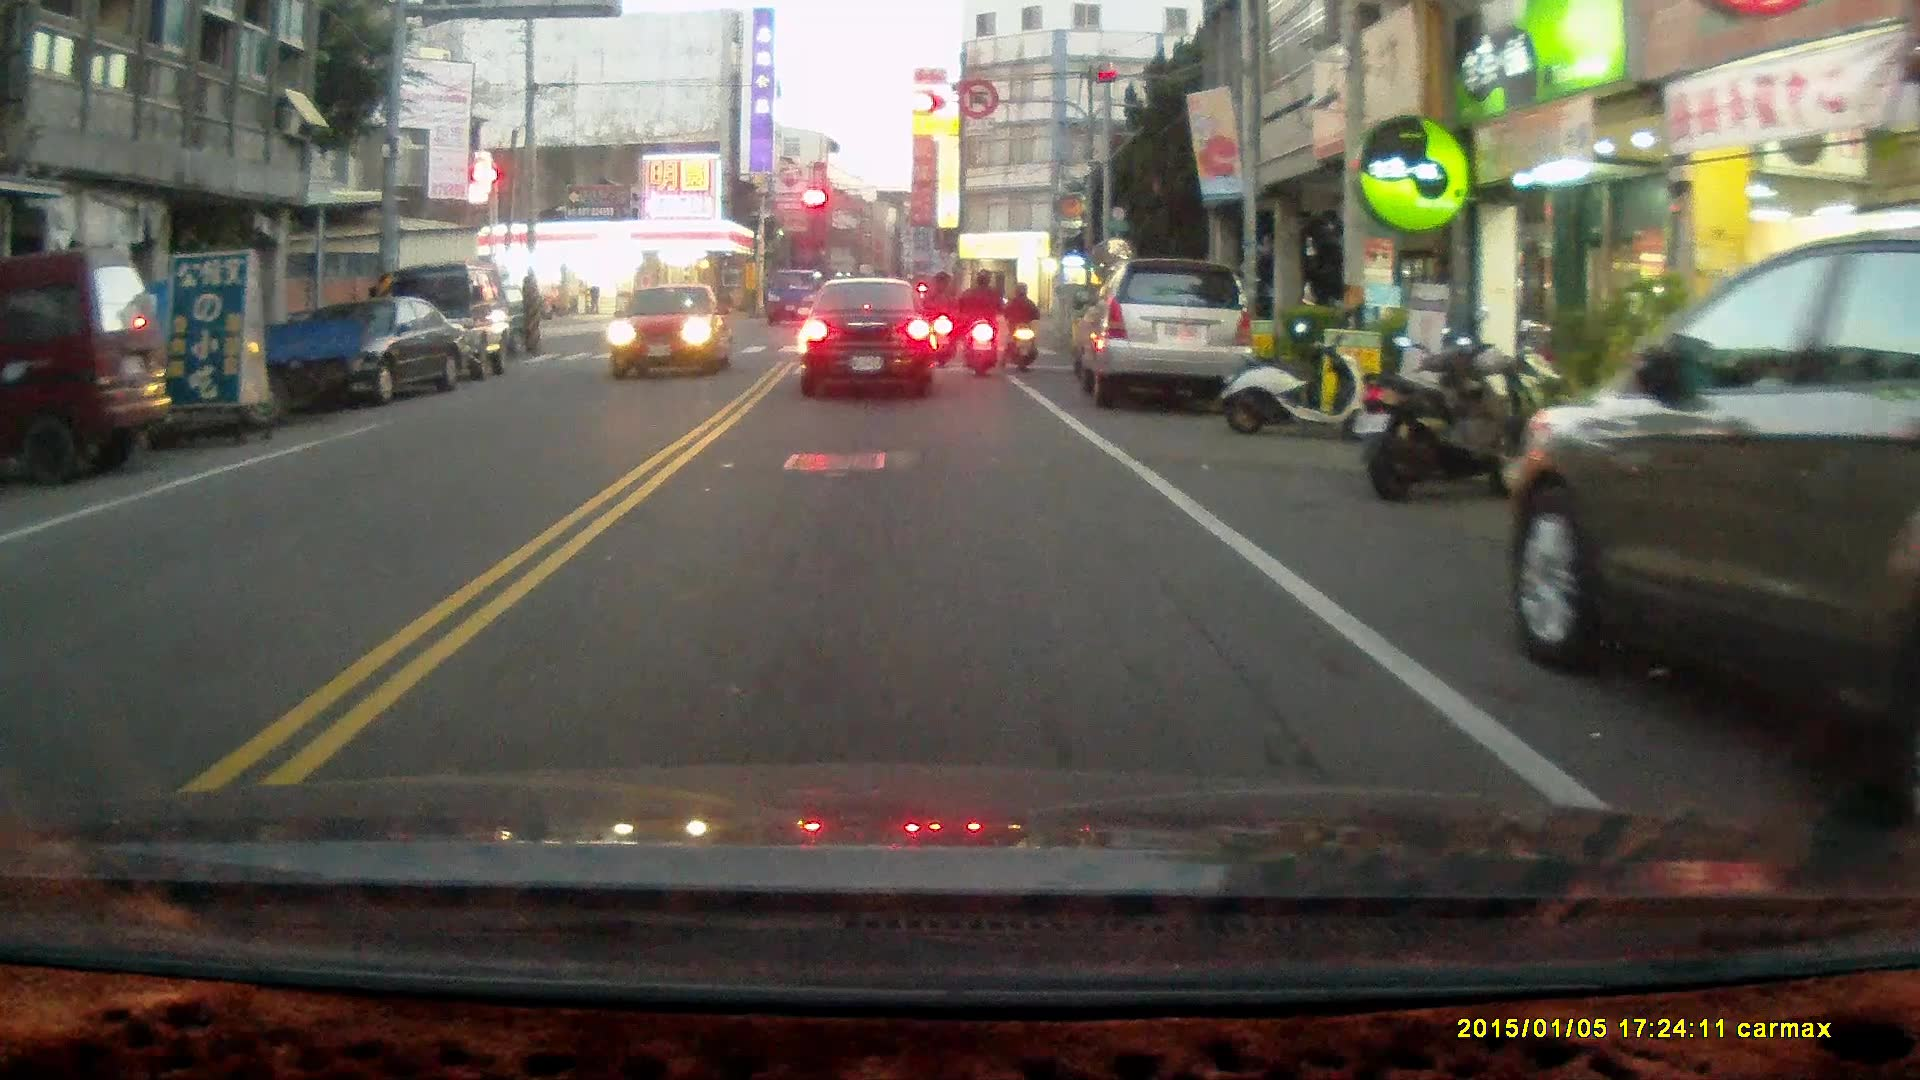rider: (956, 269, 1006, 379), (923, 270, 960, 369), (1004, 282, 1040, 375)
vehicle: (1505, 228, 1920, 834), (1, 250, 175, 479), (1072, 256, 1261, 418), (259, 293, 475, 407), (380, 258, 518, 386), (799, 275, 939, 400), (608, 283, 728, 381)
